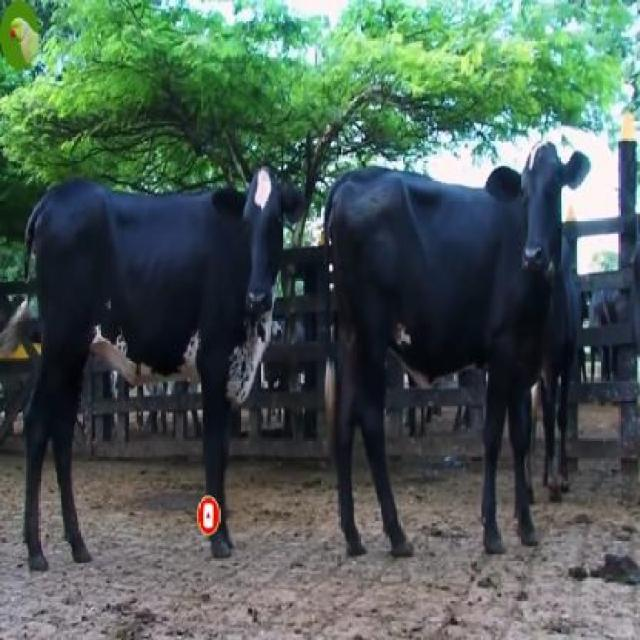Cow: (20, 154, 305, 578), (328, 137, 590, 565)
